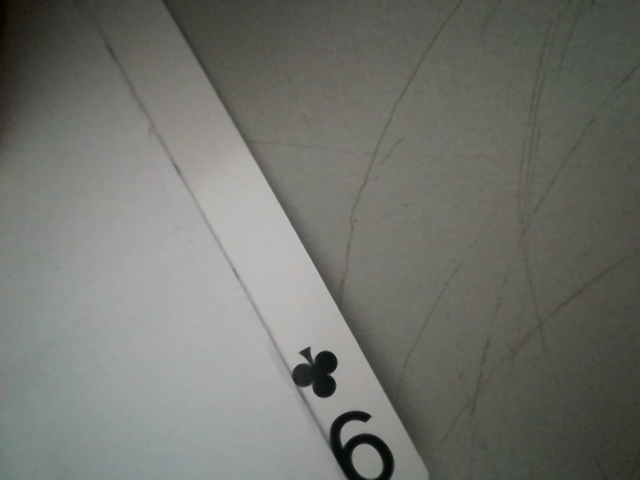mh 9: (289, 337, 419, 480)
